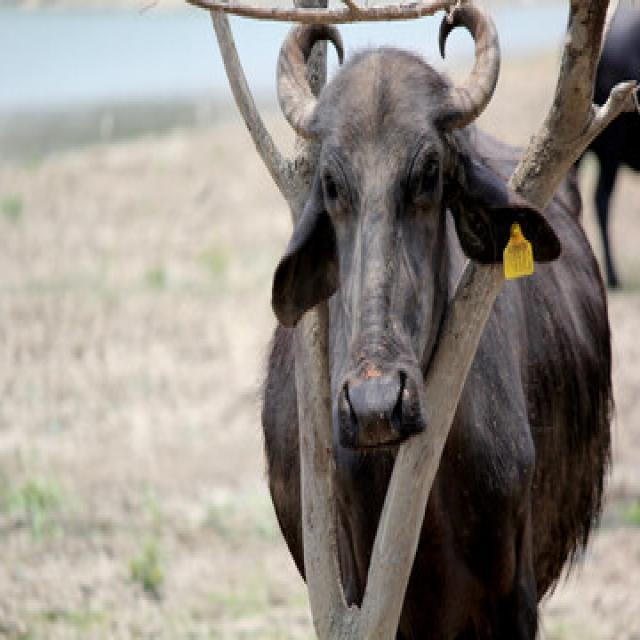Buffalo: (260, 0, 620, 637)
